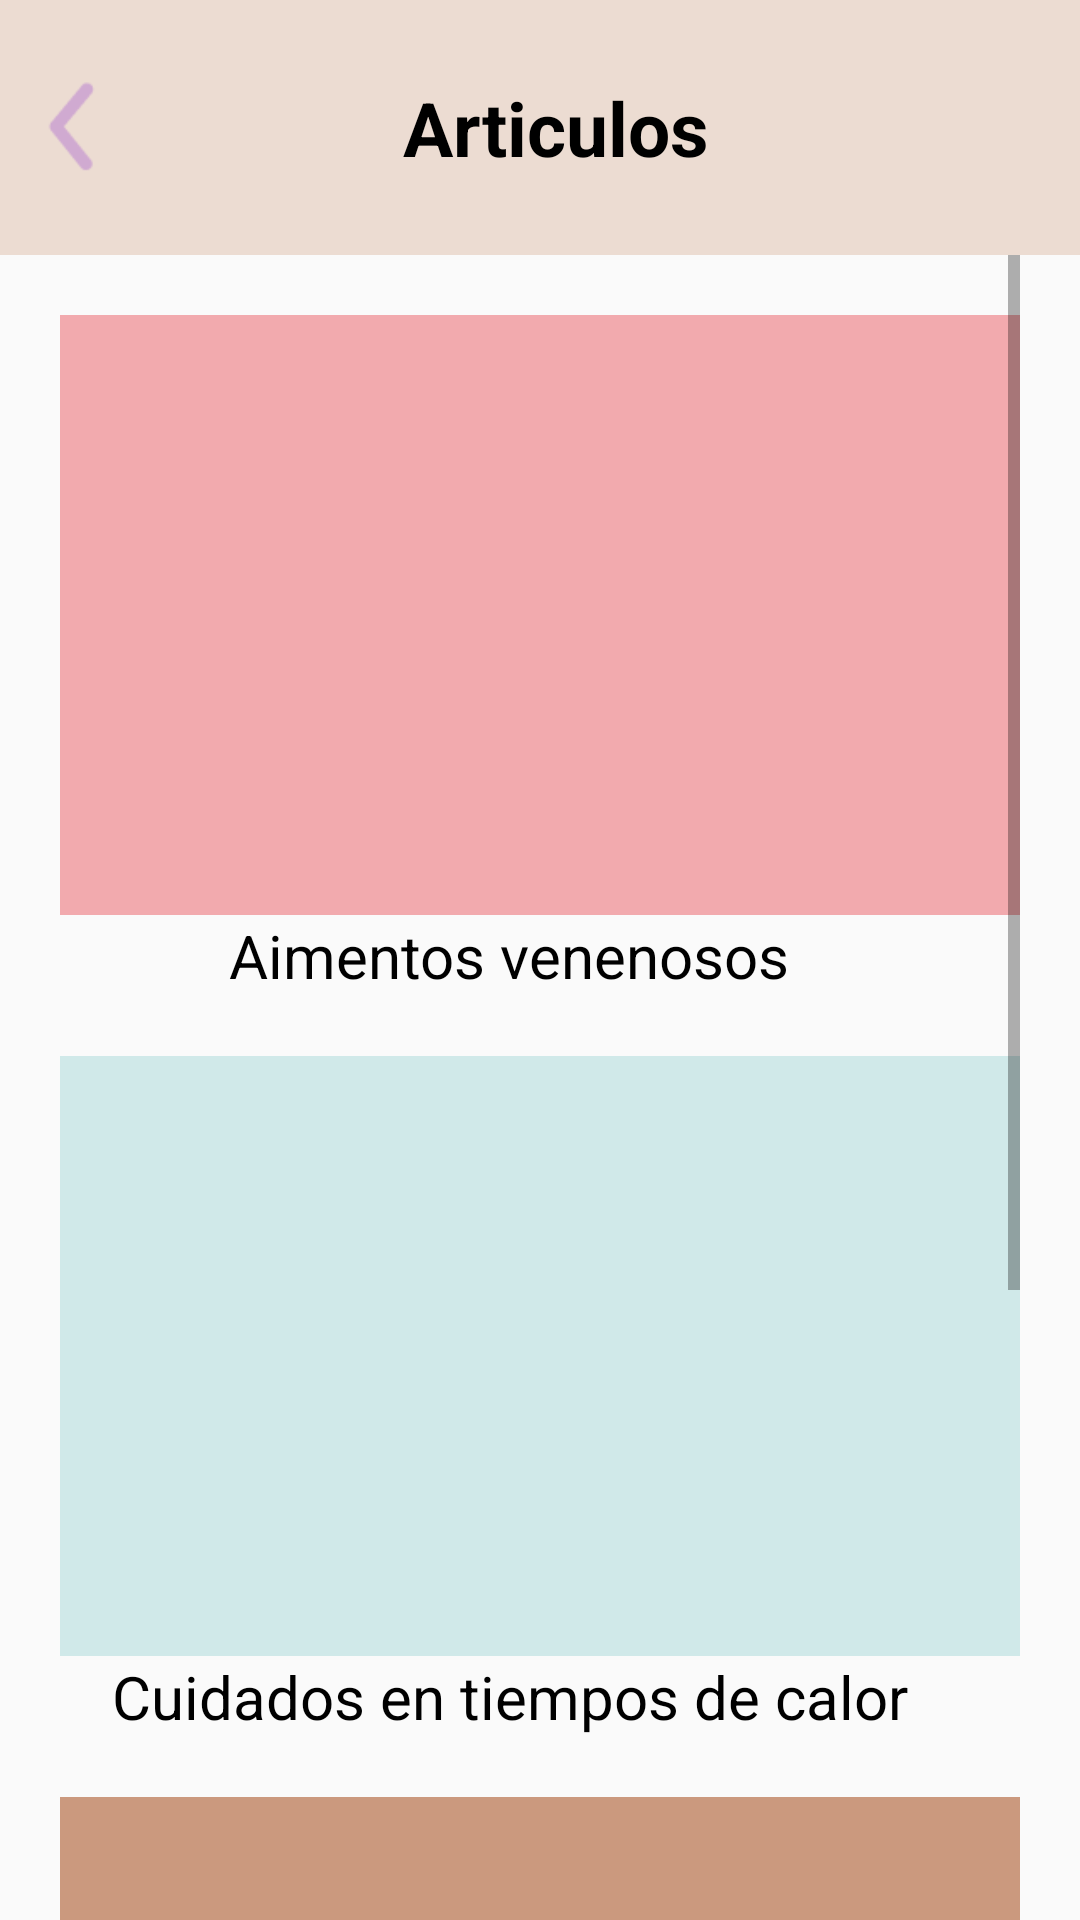

Icon click points for this 1080x1920 phone screenshot, format (x=x, y=y):
back: (x=71, y=126)
